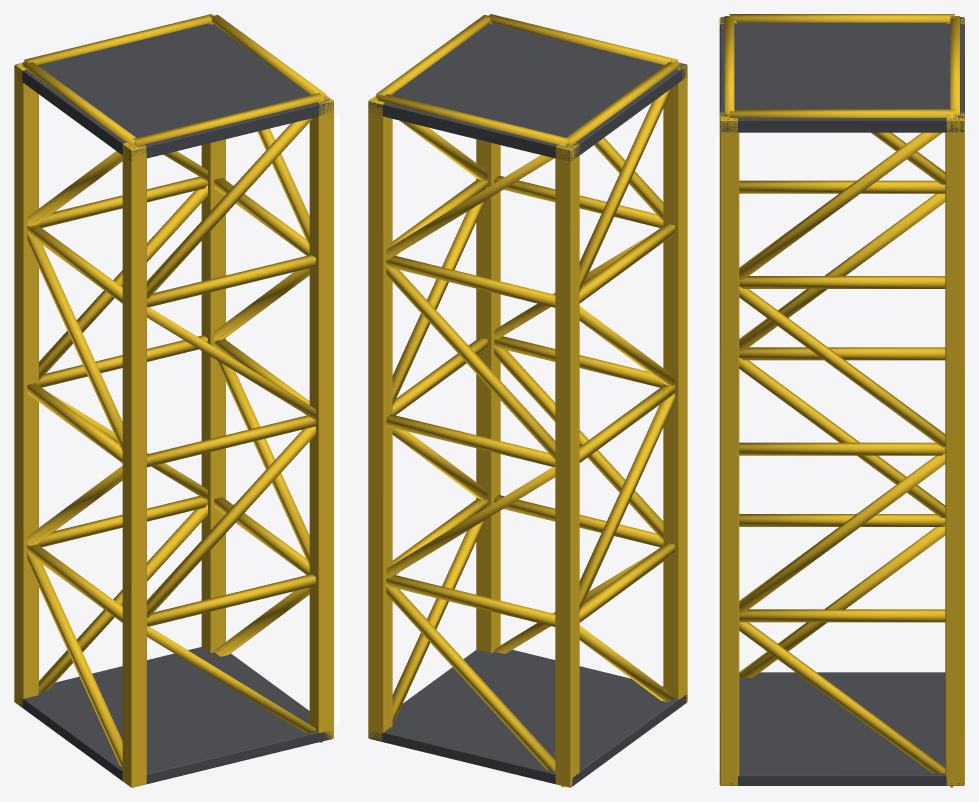
Rendered from prop_crane_mast.glb.
3 views of the same model, side by side, from view 1: azimuth 30°, elevation 25°; view 2: azimuth 150°, elevation 25°; view 3: azimuth 270°, elevation 25° (orthographic). The views are drawn at different scales.
Parts seen in each view (by area): view 1: crane_mast; view 2: crane_mast; view 3: crane_mast.
Boxes of the visible parts, <box> form: crane_mast: <box>14,14,339,787</box>; crane_mast: <box>368,14,687,787</box>; crane_mast: <box>716,14,964,787</box>.
Bounding box in the file's own units: 2.03 × 6.07 × 2.03.
